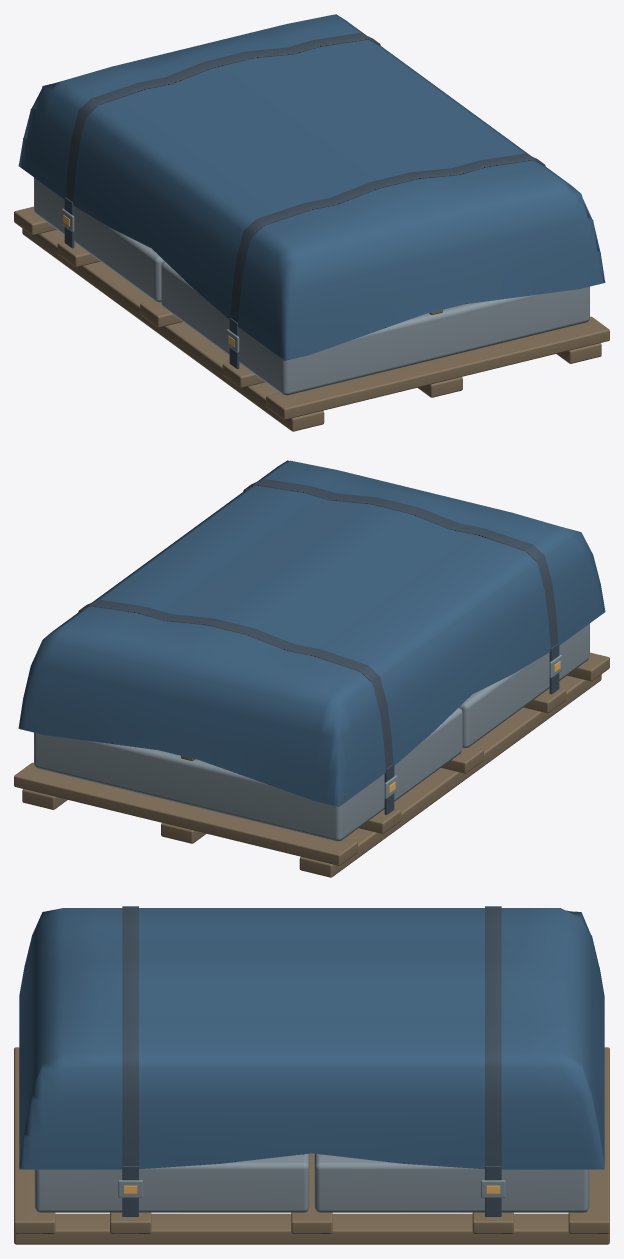
Rendered from d09_storage_03.glb.
The picture shows the model from 3 angles, top to bottom: view 1: azimuth 30°, elevation 25°; view 2: azimuth 150°, elevation 25°; view 3: azimuth 270°, elevation 25°; orthographic projection. The views are drawn at different scales.
Parts seen in each view (by area): view 1: D09Storage03_Mesh; view 2: D09Storage03_Mesh; view 3: D09Storage03_Mesh.
Part boxes in pixels (x1,y1,x2,y2): D09Storage03_Mesh: [14, 14, 609, 431]; D09Storage03_Mesh: [14, 460, 609, 877]; D09Storage03_Mesh: [14, 906, 609, 1244].
Bounding box in the file's own units: 3.2 × 1.65 × 4.6.
